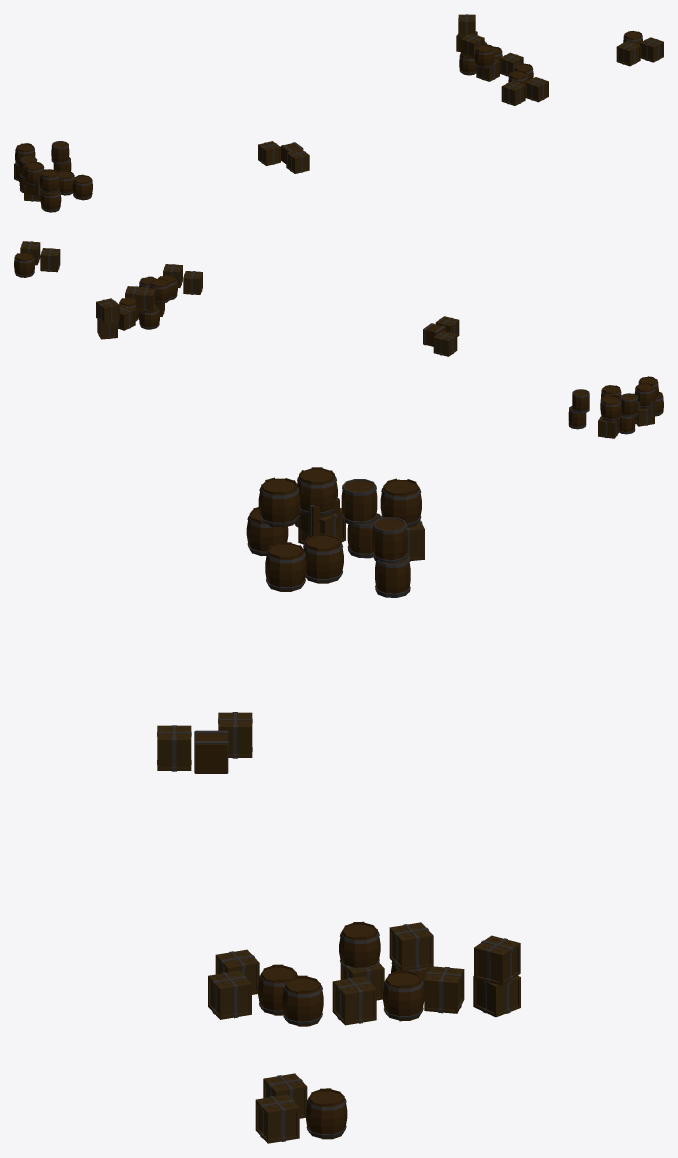
File: CanonLevelCanonBarrels.glb
3 views of the same model, one above another, from view 1: azimuth 30°, elevation 25°; view 2: azimuth 150°, elevation 25°; view 3: azimuth 270°, elevation 25° (orthographic). The views are drawn at different scales.
Visible parts, largest first — view 1: Wooden_Crate_1.008; view 2: Wooden_Crate_1.008; view 3: Wooden_Crate_1.008.
Boxes of the visible parts, left/top/right/bottom form: Wooden_Crate_1.008: left=14, top=14, right=663, bottom=212; Wooden_Crate_1.008: left=14, top=241, right=663, bottom=438; Wooden_Crate_1.008: left=157, top=467, right=520, bottom=1143.
Bounding box in the file's own units: 21.33 × 1.17 × 5.37.
